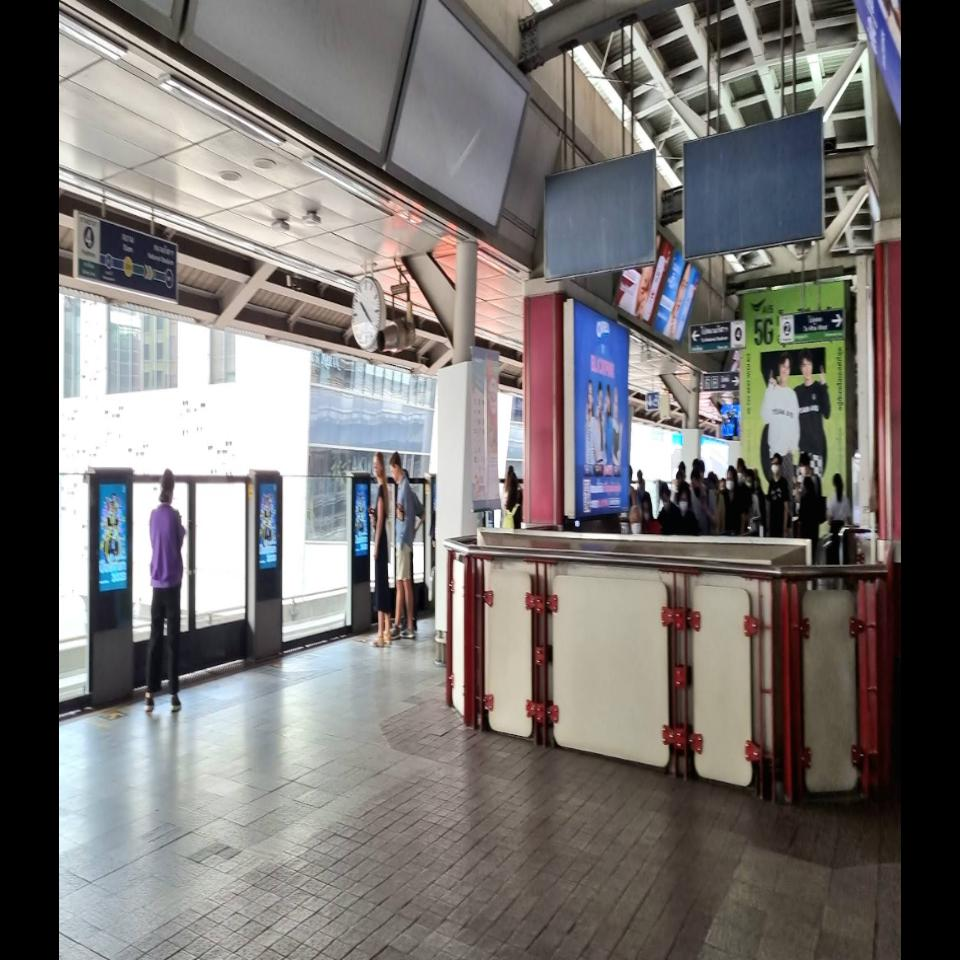signage: (106, 231, 174, 289)
